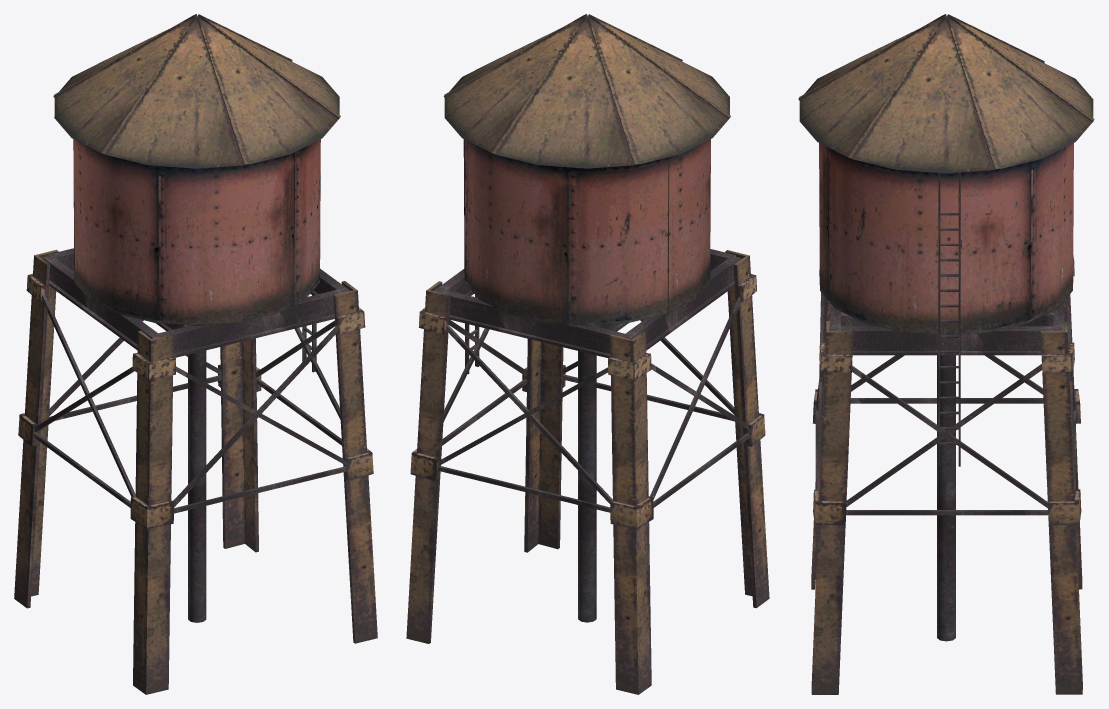
The model's file is watertower_watertowera_dm_0_lev1.glb.
3 renders of one model, left to right at view 1: azimuth 30°, elevation 25°; view 2: azimuth 150°, elevation 25°; view 3: azimuth 270°, elevation 25°, orthographic. The views are drawn at different scales.
Parts seen in each view (by area): view 1: watertower_watertowera_dm_0_lev1; view 2: watertower_watertowera_dm_0_lev1; view 3: watertower_watertowera_dm_0_lev1.
Part boxes in pixels (<box>): watertower_watertowera_dm_0_lev1: <box>14,14,377,694</box>; watertower_watertowera_dm_0_lev1: <box>406,14,769,694</box>; watertower_watertowera_dm_0_lev1: <box>798,14,1094,694</box>.
Size of the model in its own units: 3.98 by 9.15 by 3.95.
1 material, 1 textured.
